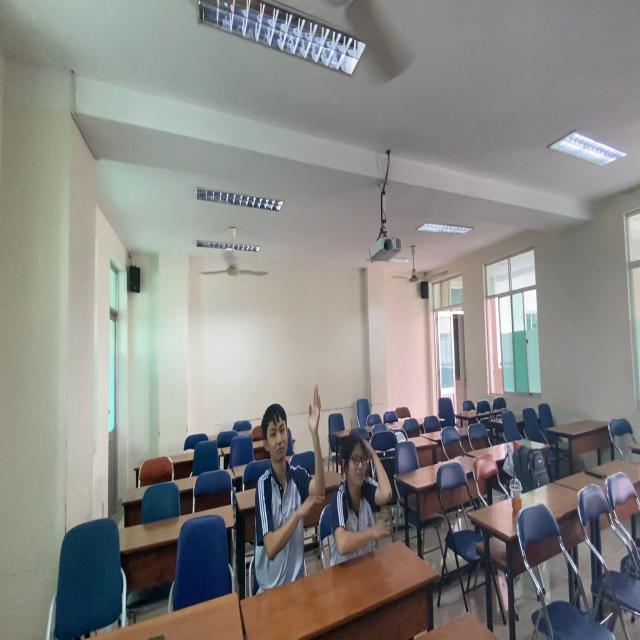raise_hand: (255, 382, 329, 604)
